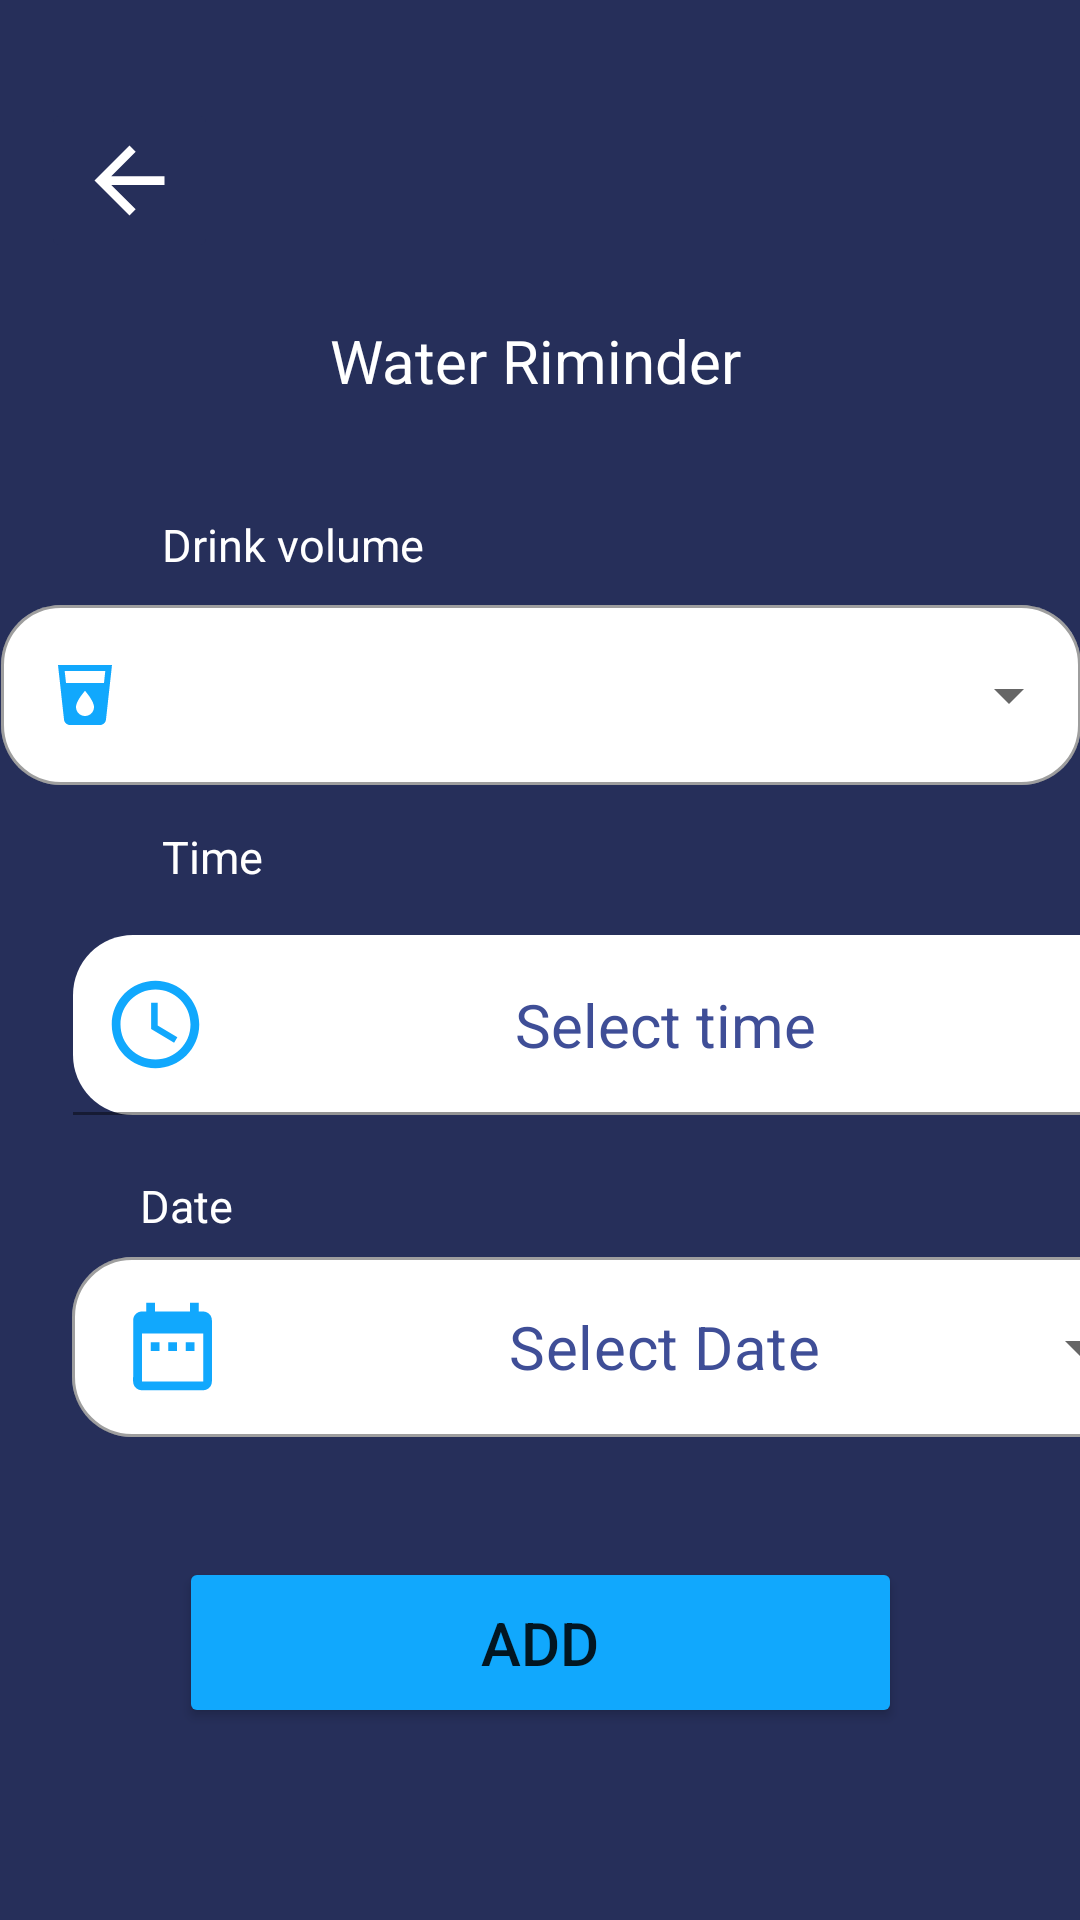

Screen size 1080×1920. Icon name, then its box in pixels as [x1=x1, y1=y1, x2=x2, y2=y2]:
Back: [x1=94, y1=145, x2=165, y2=216]
